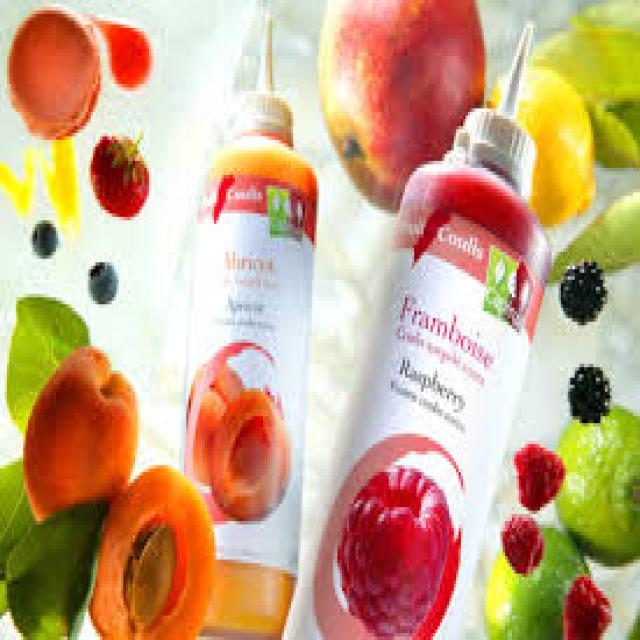Organik: (318, 4, 479, 184), (103, 441, 216, 640), (27, 348, 125, 504), (477, 520, 592, 640), (555, 402, 640, 561), (519, 59, 599, 214), (9, 9, 104, 134), (12, 297, 86, 413), (516, 445, 562, 506), (568, 578, 610, 640), (570, 266, 606, 332), (569, 365, 613, 417), (506, 508, 544, 567)
